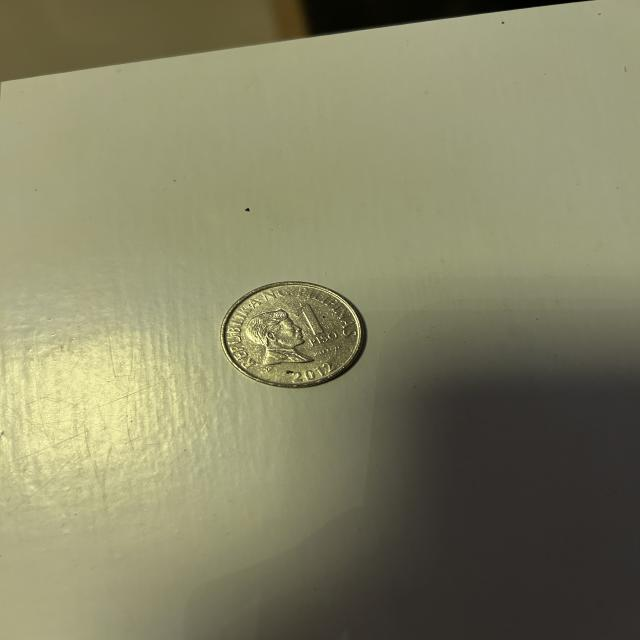1_Old_Front: (289, 304, 341, 348)
